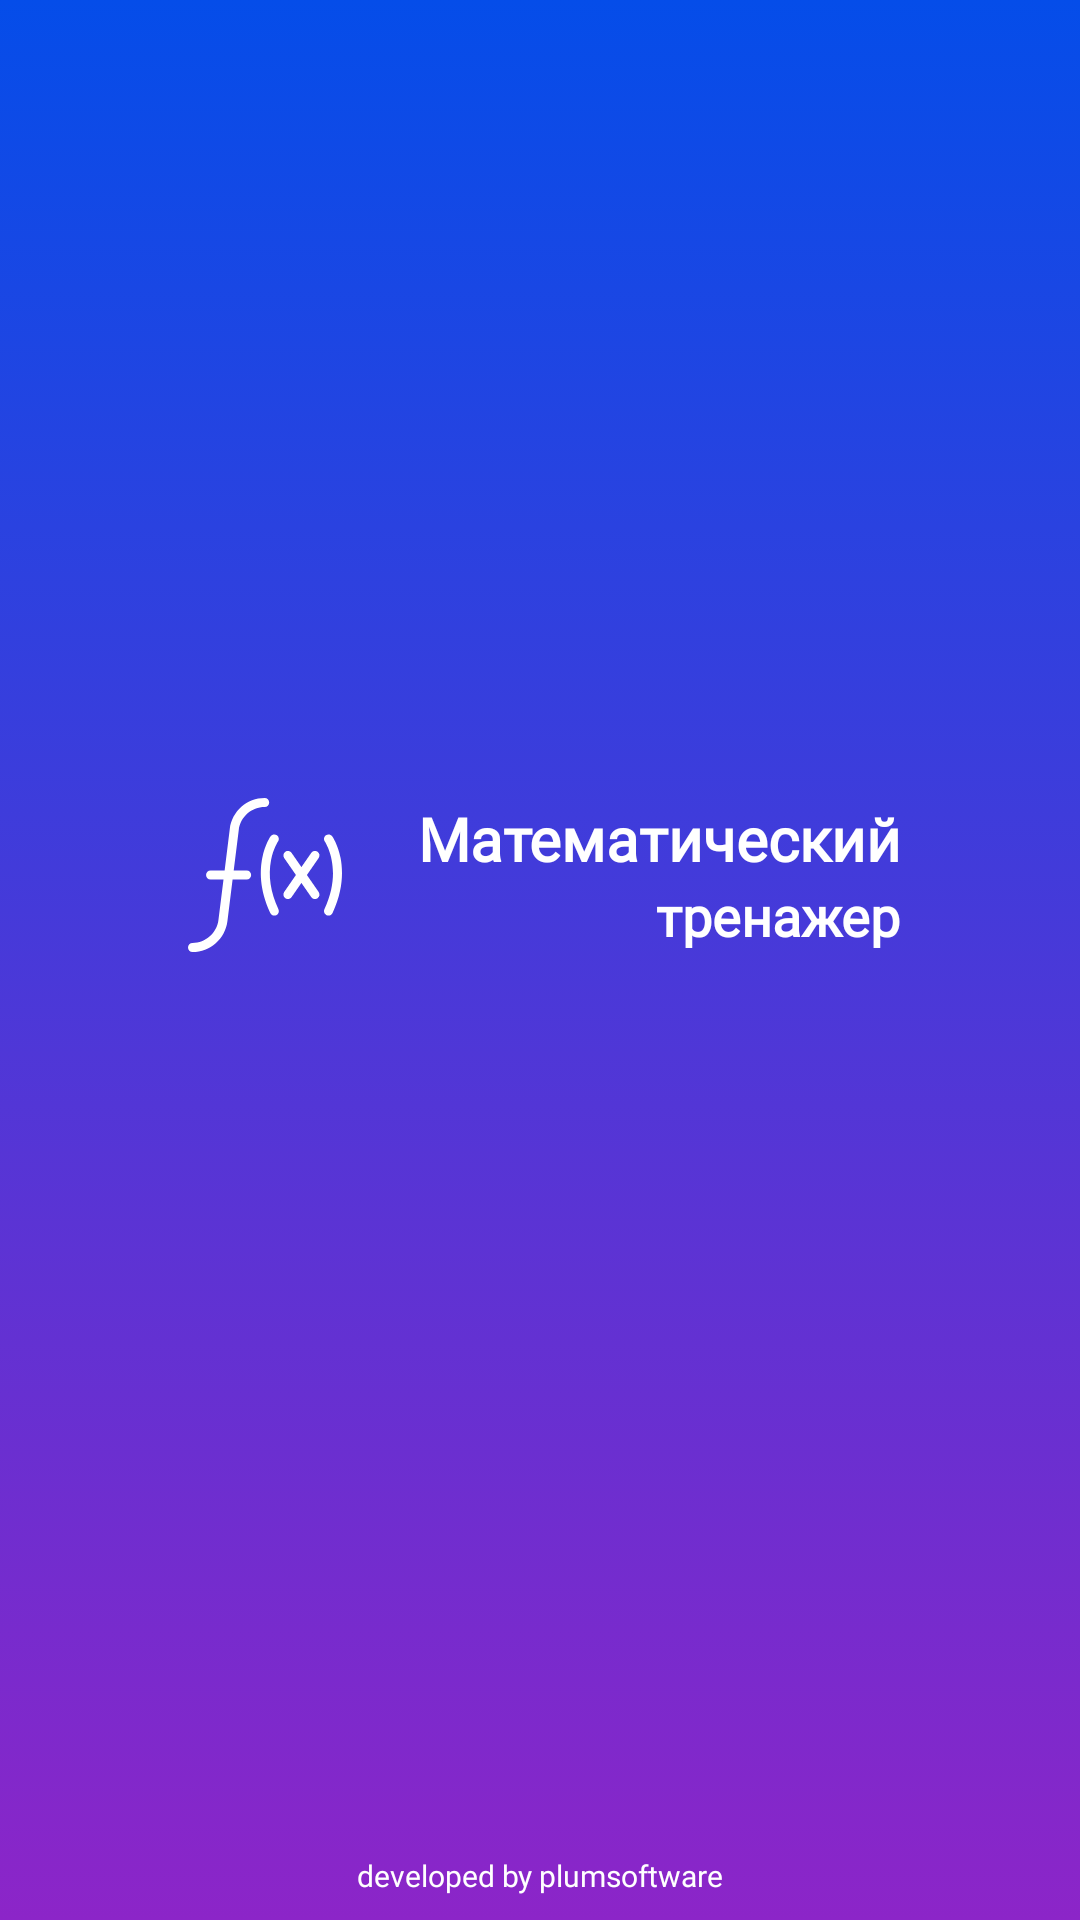

Where icons sit on this 1080 x 1920 app screen, as (x1, y1, x2, y2):
function: (188, 798, 342, 952)
